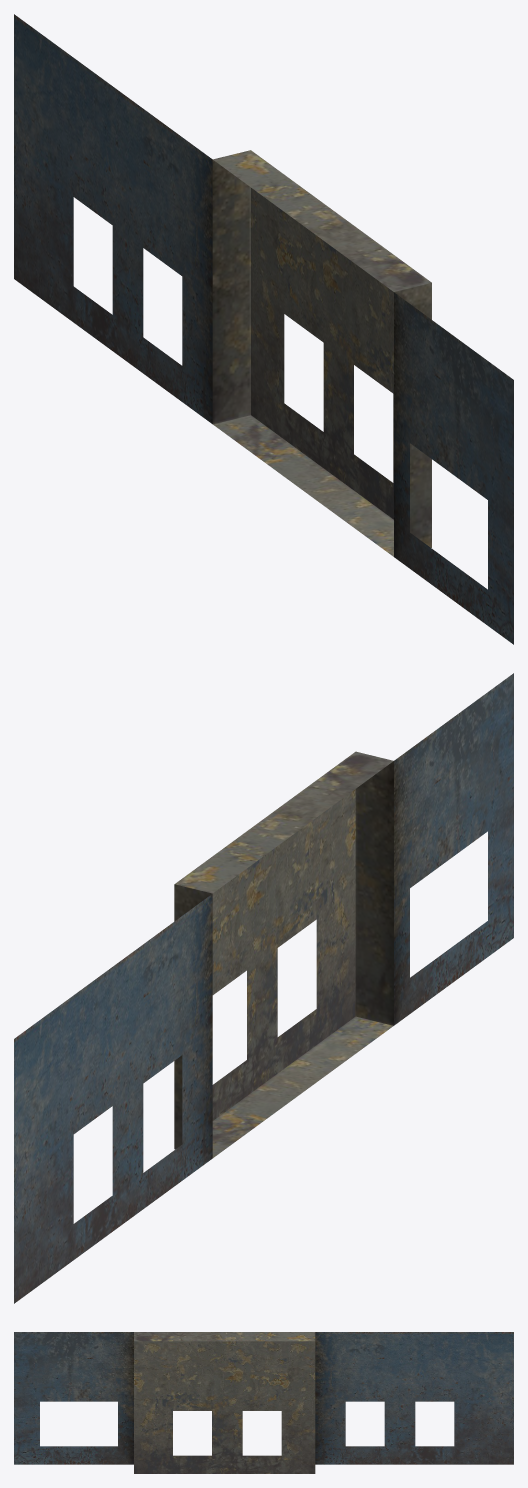
Rendered from Wall_02.FBX.
3 views of the same model, one above another, from view 1: azimuth 30°, elevation 25°; view 2: azimuth 150°, elevation 25°; view 3: azimuth 270°, elevation 25° (orthographic). The views are drawn at different scales.
Visible parts, largest first — view 1: Wall_02; view 2: Wall_02; view 3: Wall_02.
Part boxes in pixels (x1,y1,x2,y2): Wall_02: (14,14,513,644); Wall_02: (14,673,513,1303); Wall_02: (14,1332,513,1473).
Bounding box in the file's own units: 77.13 × 511 × 1748.
